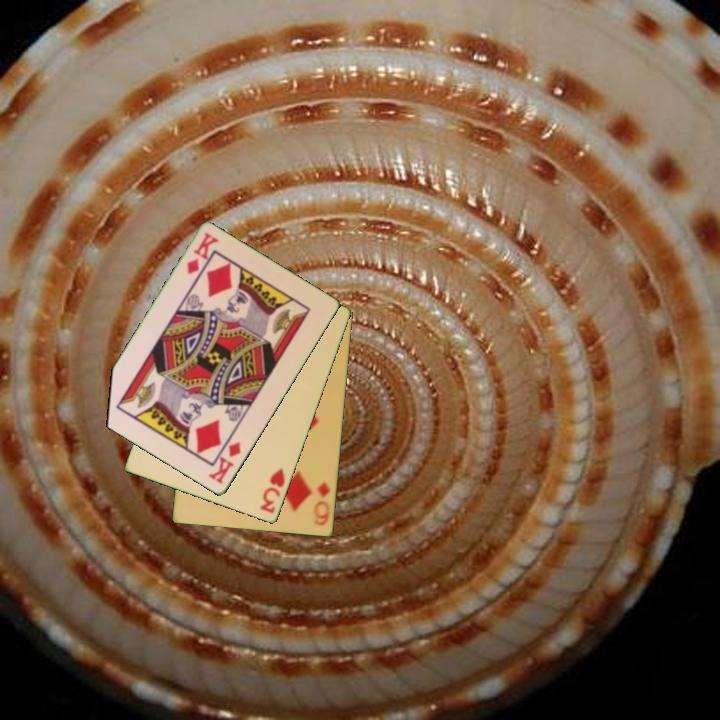3h: (257, 465, 288, 517)
6d: (310, 479, 333, 529)
Kd: (205, 438, 244, 487), (183, 229, 221, 278)
